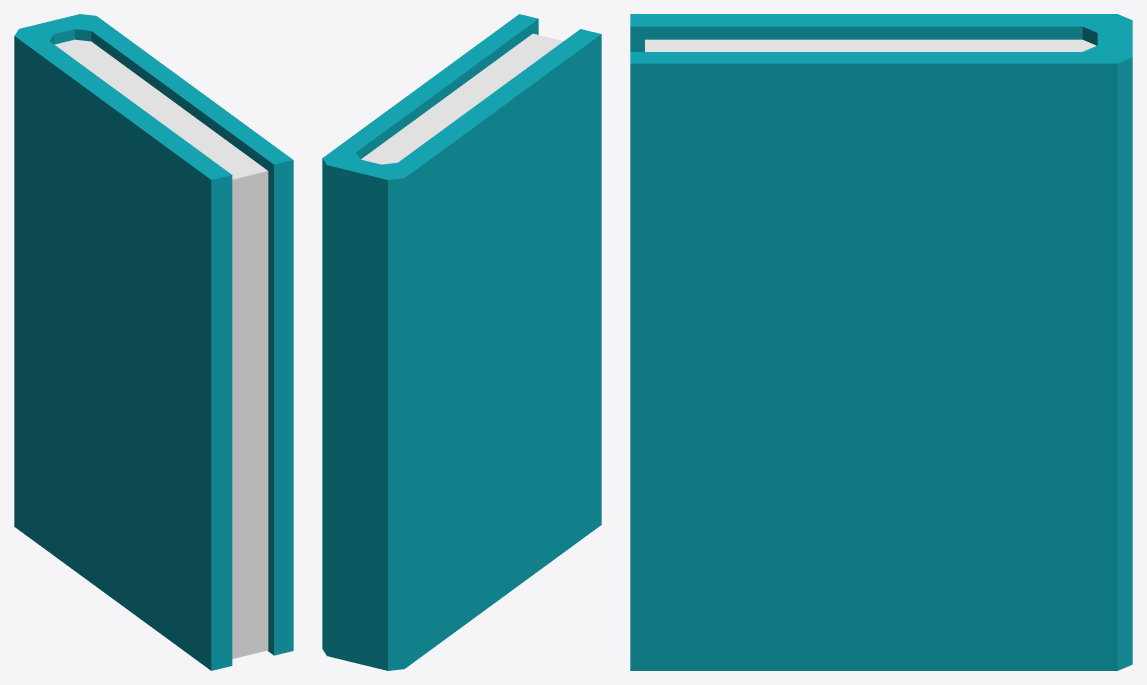
The model's file is Libro07.fbx.
3 views of the same model, side by side, from view 1: azimuth 30°, elevation 25°; view 2: azimuth 150°, elevation 25°; view 3: azimuth 270°, elevation 25° (orthographic). The views are drawn at different scales.
Visible parts, largest first — view 1: Libro07; view 2: Libro07; view 3: Libro07.
Boxes of the visible parts, bbox=[...] form: Libro07: bbox=[14, 14, 293, 670]; Libro07: bbox=[322, 14, 601, 670]; Libro07: bbox=[630, 14, 1132, 670].
Size of the model in its own units: 3.28 by 18.76 by 14.05.
